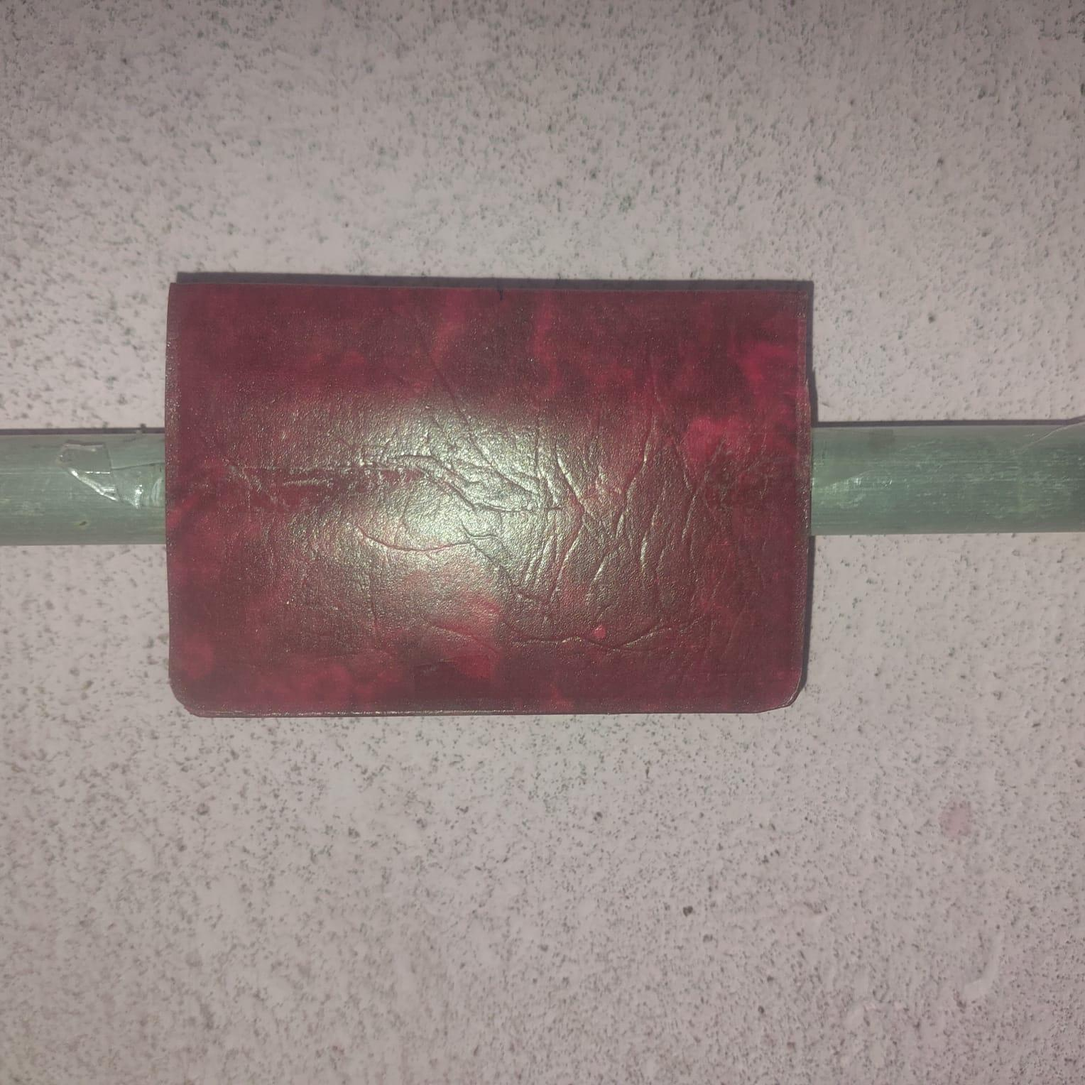wallet: (161, 272, 814, 715)
